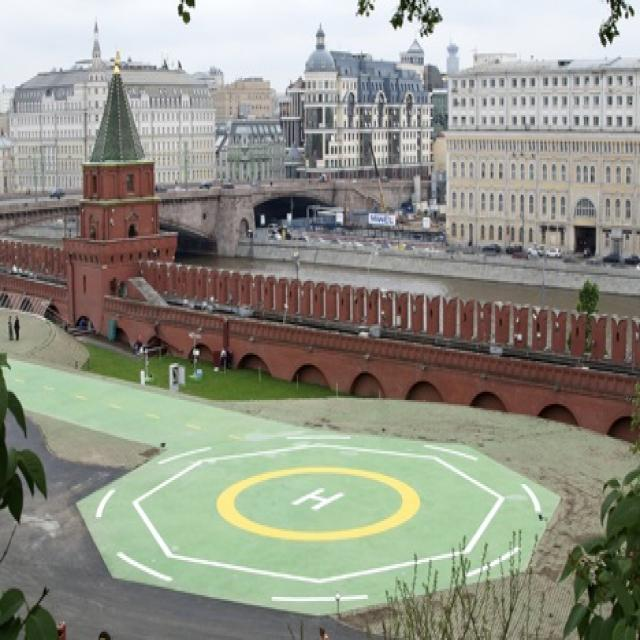helipad: (212, 458, 421, 542)
